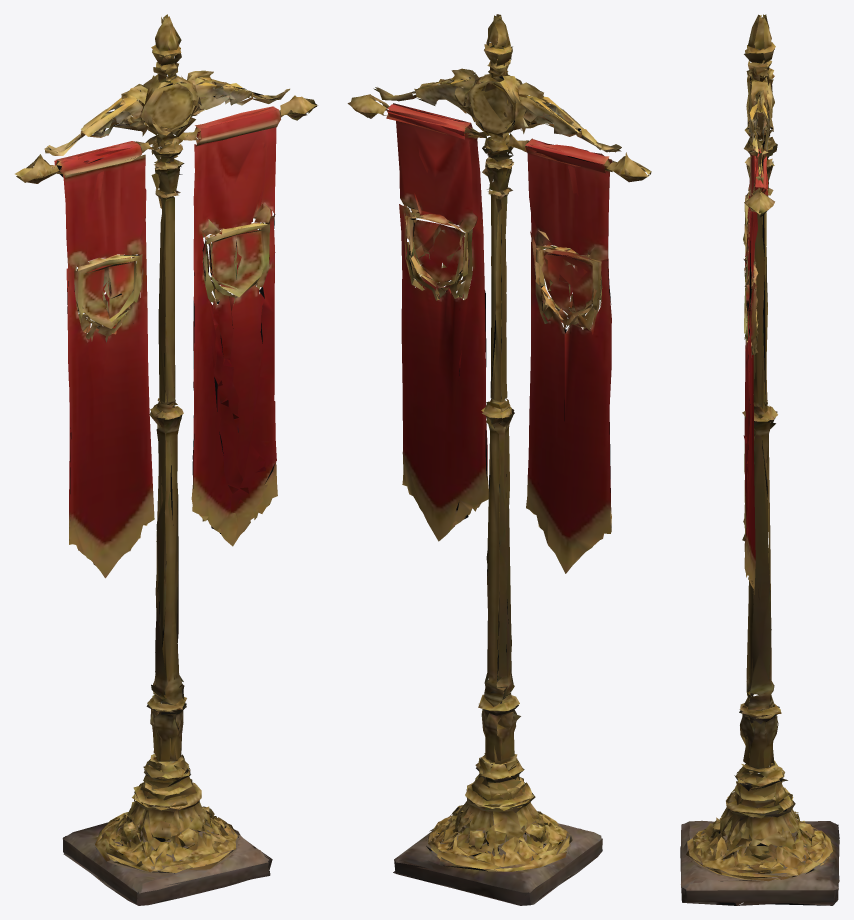
The model's file is town_banner.glb.
3 views of the same model, side by side, from view 1: azimuth 30°, elevation 25°; view 2: azimuth 150°, elevation 25°; view 3: azimuth 270°, elevation 25° (orthographic).
Parts seen in each view (by area): view 1: town_banner; view 2: town_banner; view 3: town_banner.
Boxes of the visible parts, box(x1,y1,x2,y2) form: town_banner: box(15, 14, 317, 905); town_banner: box(347, 14, 651, 905); town_banner: box(680, 14, 839, 905).
Size of the model in its own units: 1.3 by 3.49 by 0.5879.
1 material, 1 textured.
